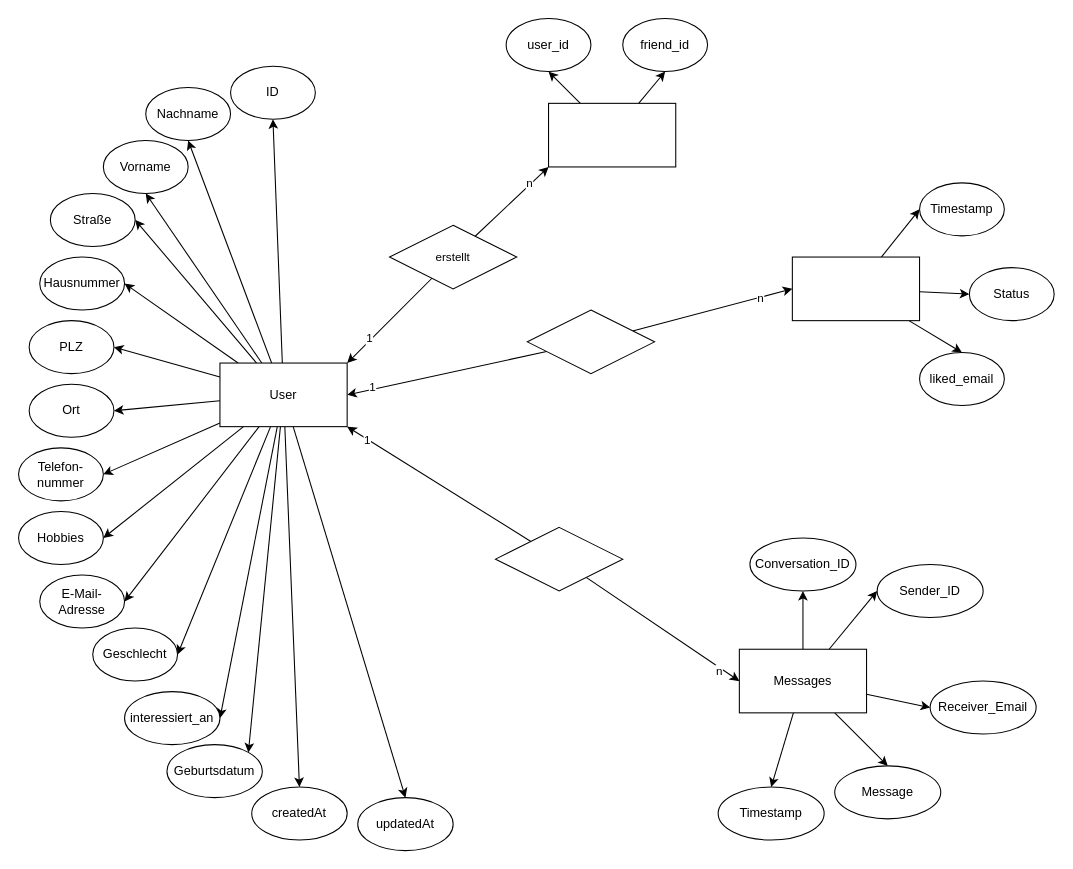
The diagram is 1073 pixels wide and 869 high, and some of its shapes have lost their labels. Here are the shapes that lost their labels. From the top down, the centre of each, then its label:
At pixel 611 134: "Friendships".
At pixel 855 288: "Likes".
At pixel 590 341: "vergibt".
At pixel 558 558: "schreibt".
